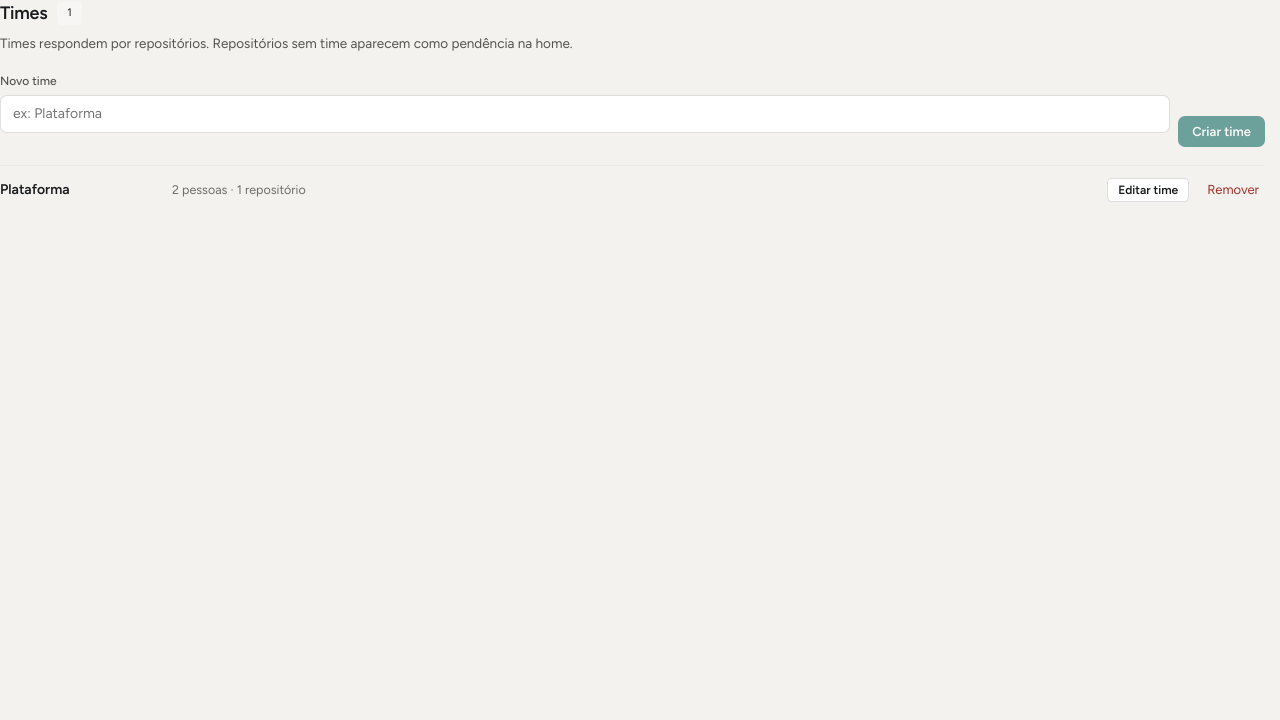
Test case: TeamEditModal, through the teams settings › shows the team members
Click the button "Editar time" at (1148, 190), box [1107,178,1189,202]
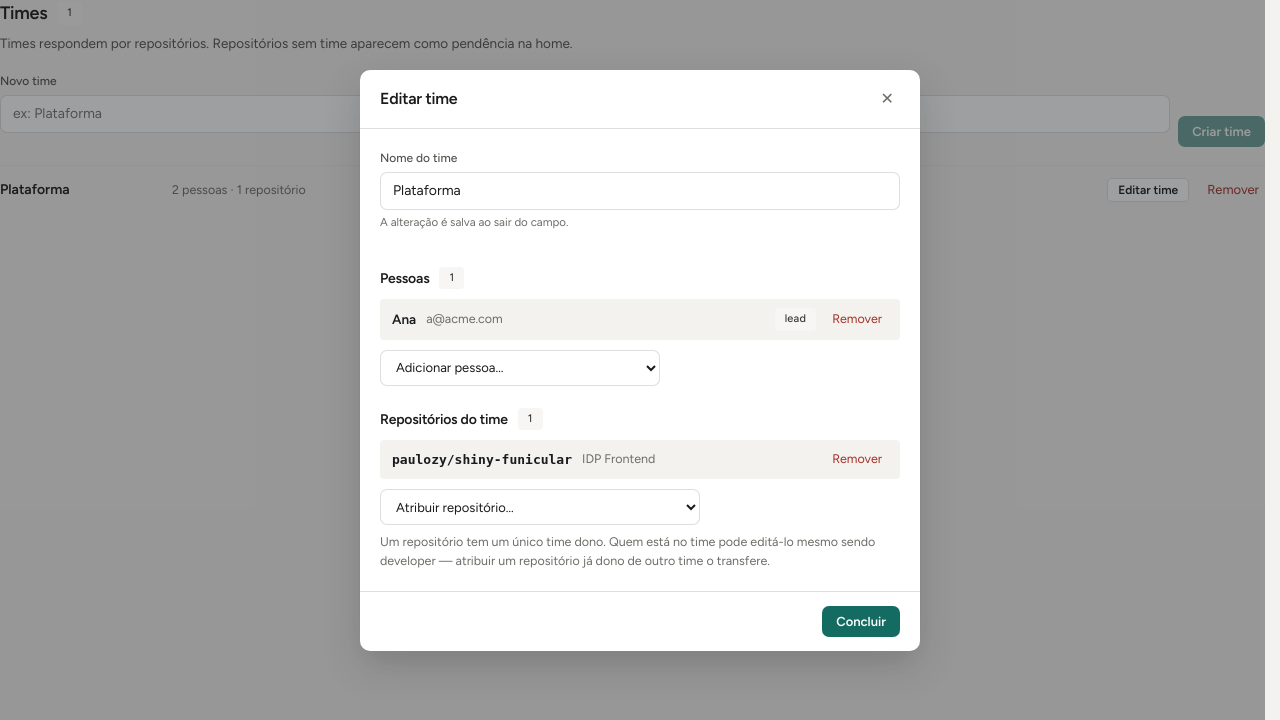
Check: the text "Ana" is shown, box [392,309,416,330]
Check: the text "lead" is shown, box [775,308,816,331]
